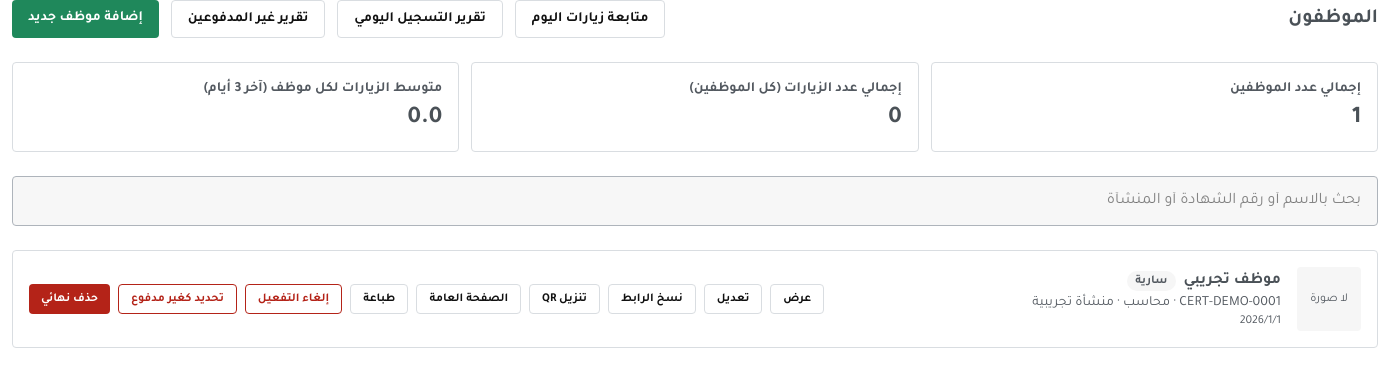
Test case: EmployeeListPage unpaid status › marks an employee as unpaid with the entered note, and shows the badge in place
Expected: the text "موظف تجريبي" is shown, [1184, 269, 1281, 293]
Click the button "تحديد كغير مدفوع": (177, 299) [118, 284, 237, 314]
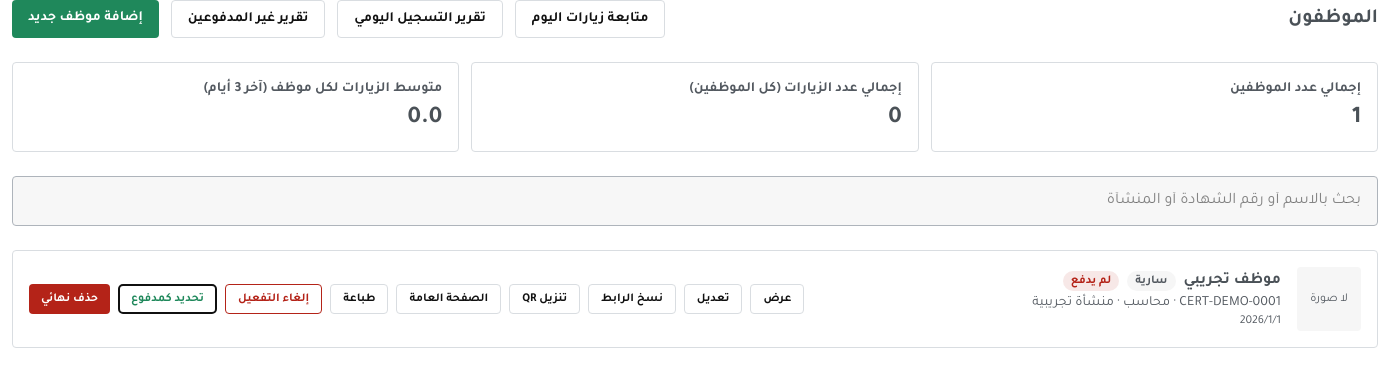
Result: the text "لم يدفع" is shown at [1063, 271, 1119, 291]
